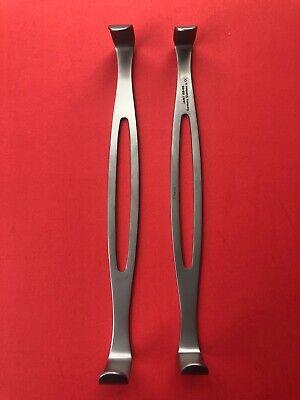Army Navy Retractor: (156, 20, 225, 379), (88, 14, 145, 388)
